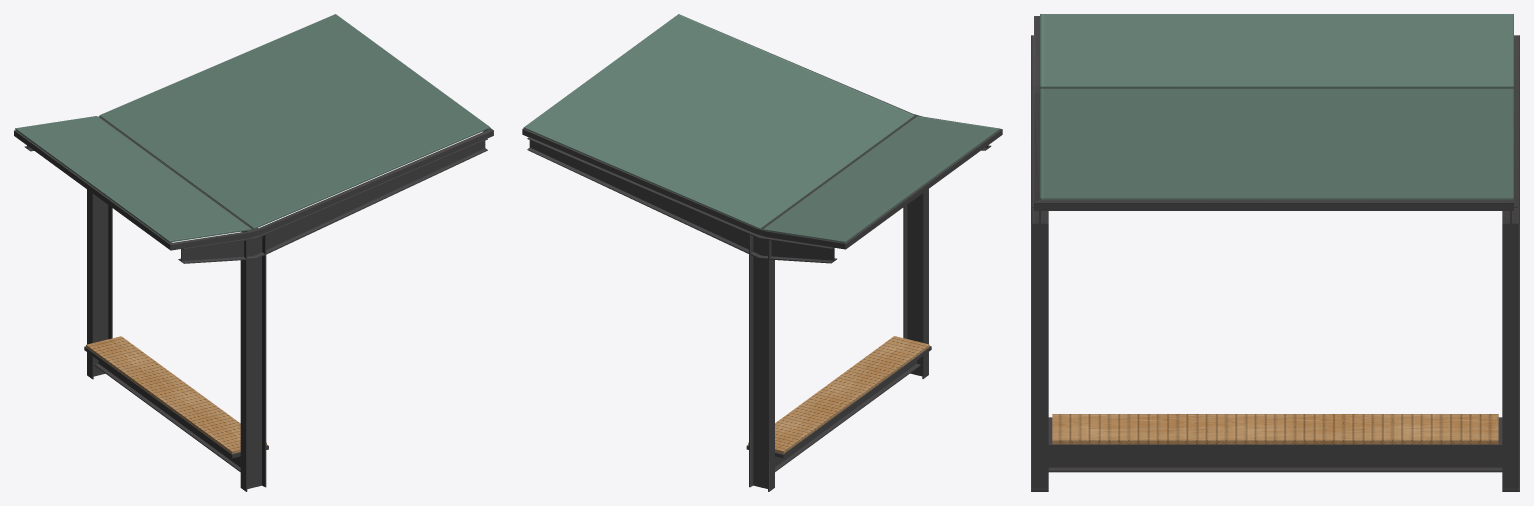
Rendered from SM_Busstop02.FBX.
The picture shows the model from 3 angles, left to right: view 1: azimuth 30°, elevation 25°; view 2: azimuth 150°, elevation 25°; view 3: azimuth 270°, elevation 25°; orthographic projection. The views are drawn at different scales.
Parts seen in each view (by area): view 1: SM_Busstop02; view 2: SM_Busstop02; view 3: SM_Busstop02.
Part boxes in pixels (left/top/right/bottom): SM_Busstop02: left=14, top=14, right=493, bottom=491; SM_Busstop02: left=522, top=14, right=1002, bottom=491; SM_Busstop02: left=1031, top=14, right=1519, bottom=491.
Size of the model in its own units: 6.37 by 5.69 by 5.44.
